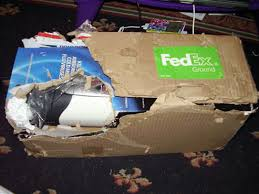damaged package: (9, 37, 151, 136), (200, 99, 256, 115)
